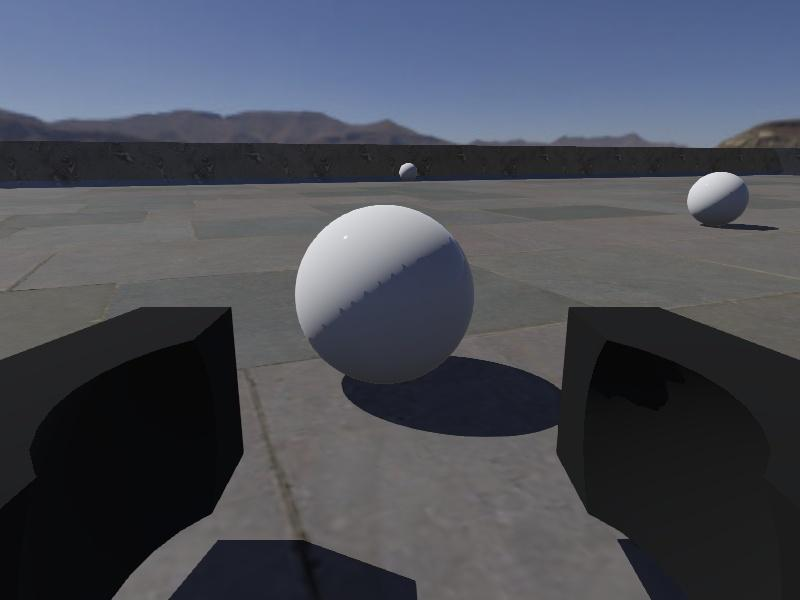white ball: (294, 203, 475, 385), (687, 170, 749, 227), (398, 163, 418, 183)
